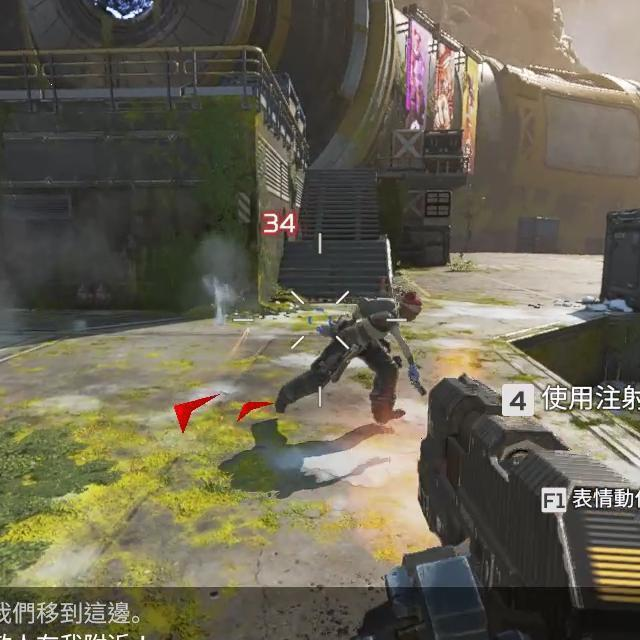avatar: (330, 289, 423, 425)
